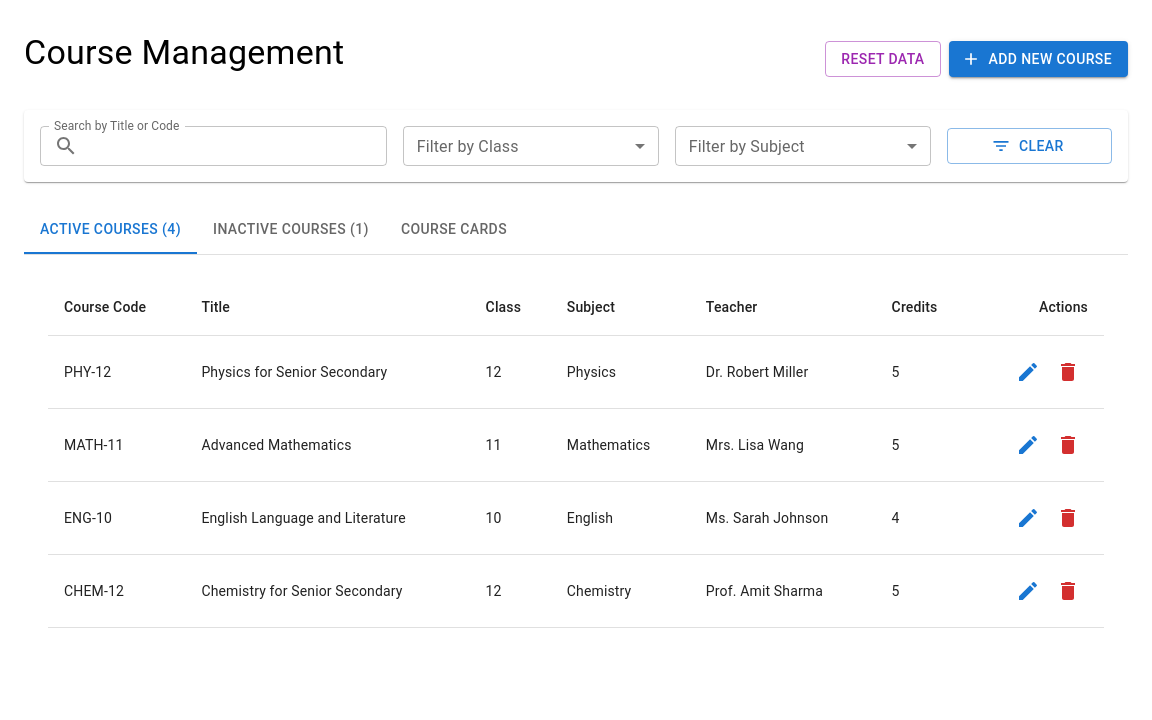
Test: Courses Component › opens add new course dialog when button is clicked with AI validation
Click the button "Add New Course".
click(1038, 59)  # box [949,41,1128,77]
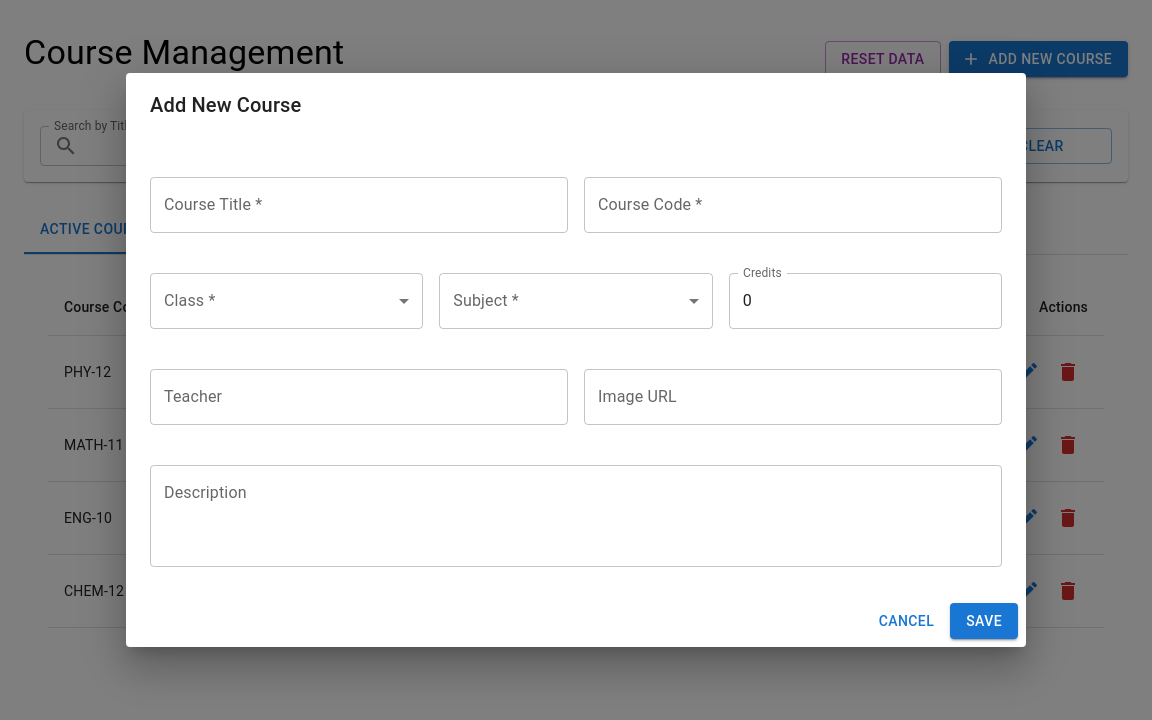
Expected: the dialog is shown
Expected: the field labelled "Course Title *" is shown, [150,177,568,233]
Expected: the field labelled "Course Code *" is shown, [584,177,1002,233]
